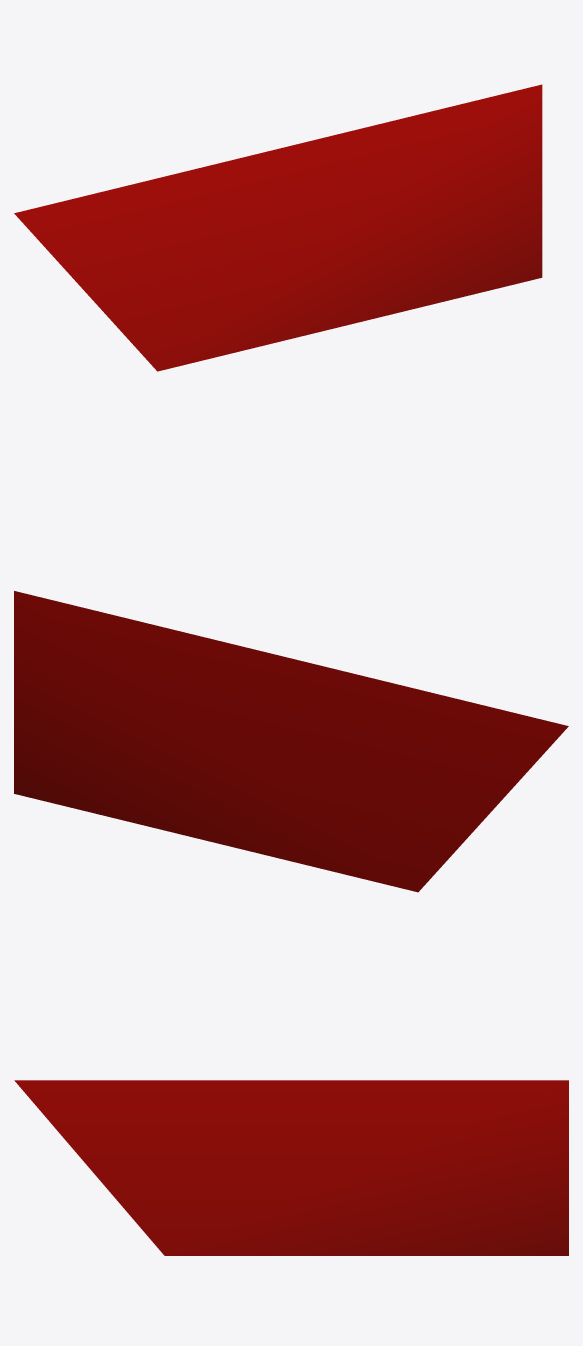
Rendered from bush_2_small.glb.
The picture shows the model from 3 angles, top to bottom: view 1: azimuth 30°, elevation 25°; view 2: azimuth 150°, elevation 25°; view 3: azimuth 270°, elevation 25°; orthographic projection. The views are drawn at different scales.
Visible parts, largest first — view 1: bush_2_small; view 2: bush_2_small; view 3: bush_2_small.
Boxes of the visible parts, left/top/right/bottom form: bush_2_small: left=14, top=84, right=542, bottom=371; bush_2_small: left=14, top=591, right=568, bottom=892; bush_2_small: left=14, top=1080, right=568, bottom=1255.
Size of the model in its own units: 0.2907 by 0.1148 by 0.3284.
